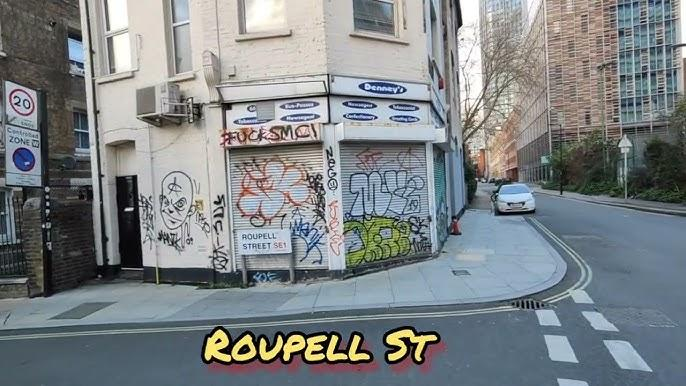graffiti: (346, 151, 431, 259), (231, 152, 323, 218), (153, 177, 212, 250), (326, 144, 346, 257), (222, 121, 319, 141), (284, 219, 329, 257), (138, 194, 157, 250), (213, 189, 225, 277)
